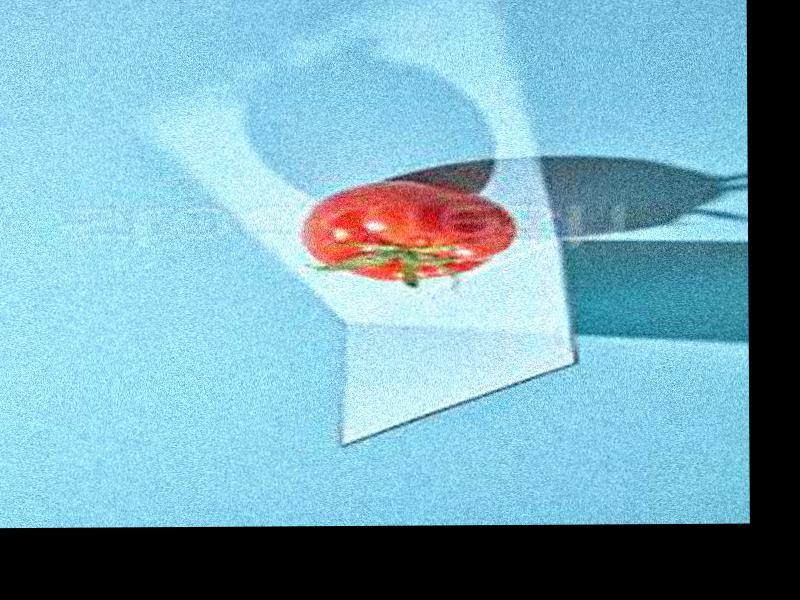Tomato: (302, 179, 517, 281)
